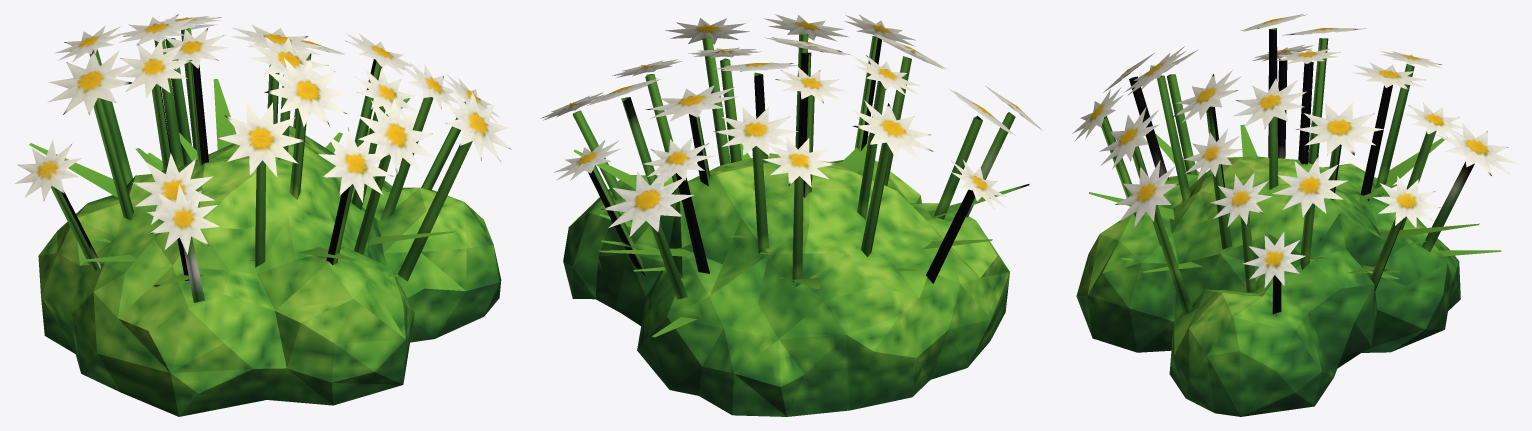
The model's file is daisy_clump.glb.
3 views of the same model, side by side, from view 1: azimuth 30°, elevation 25°; view 2: azimuth 150°, elevation 25°; view 3: azimuth 270°, elevation 25° (orthographic). The views are drawn at different scales.
Visible parts, largest first — view 1: daisy_clump; view 2: daisy_clump; view 3: daisy_clump.
Boxes of the visible parts, bbox=[...] form: daisy_clump: bbox=[14, 14, 511, 416]; daisy_clump: bbox=[541, 14, 1042, 416]; daisy_clump: bbox=[1072, 14, 1517, 416].
Size of the model in its own units: 0.4559 by 0.2759 by 0.417.
Materials: 1 (1 with a texture image).
